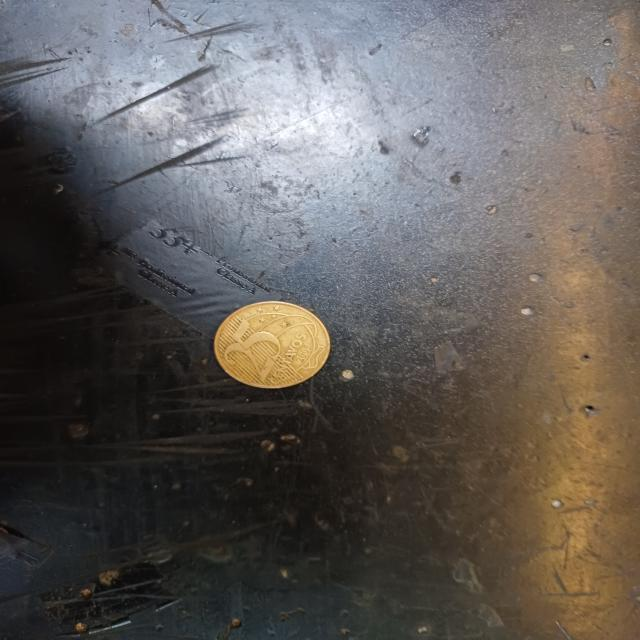25 cents: (214, 298, 333, 392)
